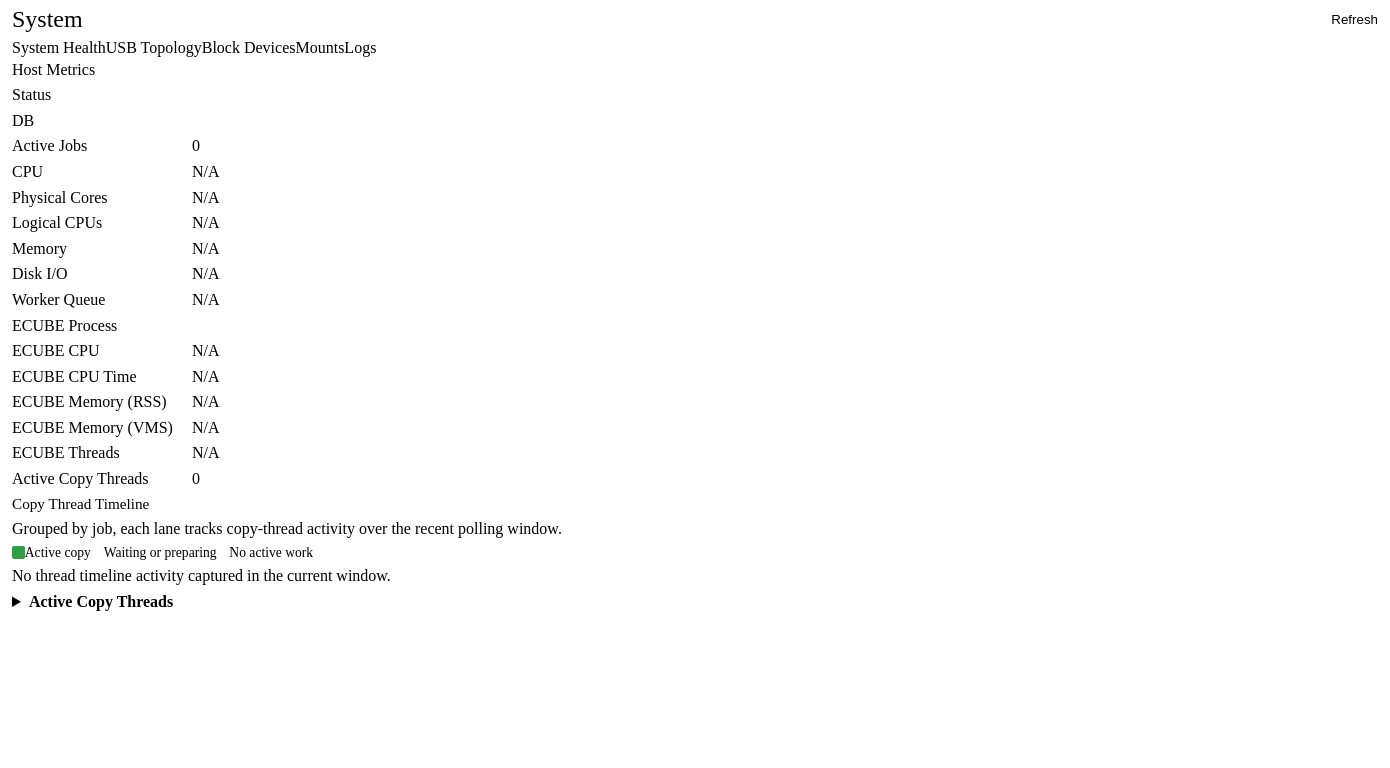
it: SystemView USB topology tab › uses a compact USB topology table with overflow details on mobile
Click the tab "USB Topology" at [154, 48], box [106, 38, 202, 58]
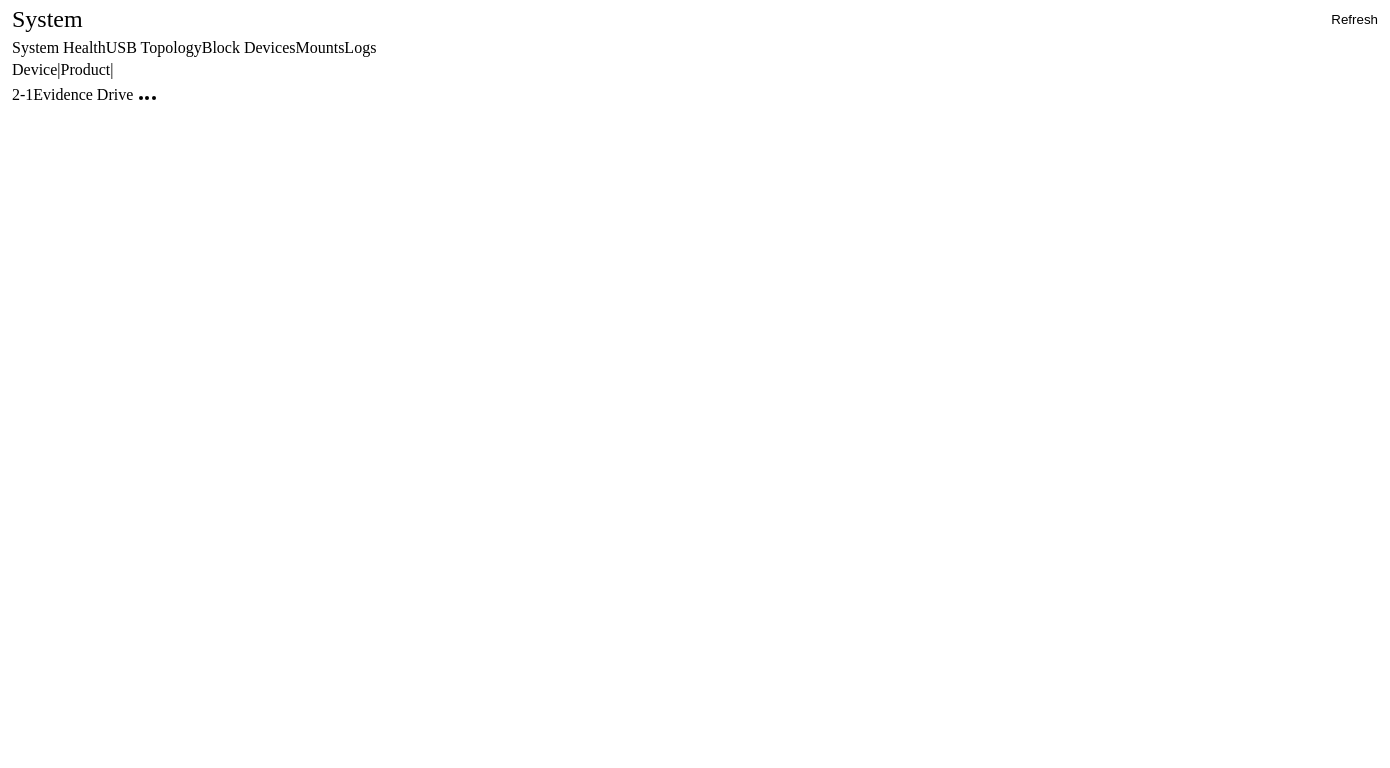
Check: the element with class "usb-topology-menu-toggle-dots" is shown, box [139, 96, 156, 100]
